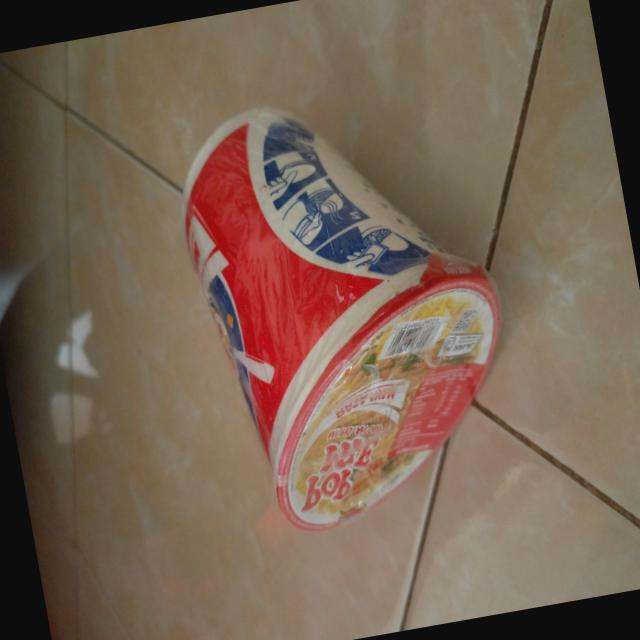popmie-rasa-ayam: (162, 69, 534, 546)
